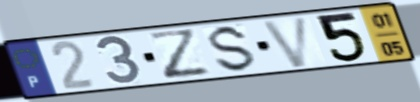2: (50, 39, 99, 92)
3: (94, 33, 145, 88)
5: (312, 10, 370, 64)
S: (207, 23, 260, 74)
V: (259, 14, 311, 70)
Z: (144, 27, 215, 82)
